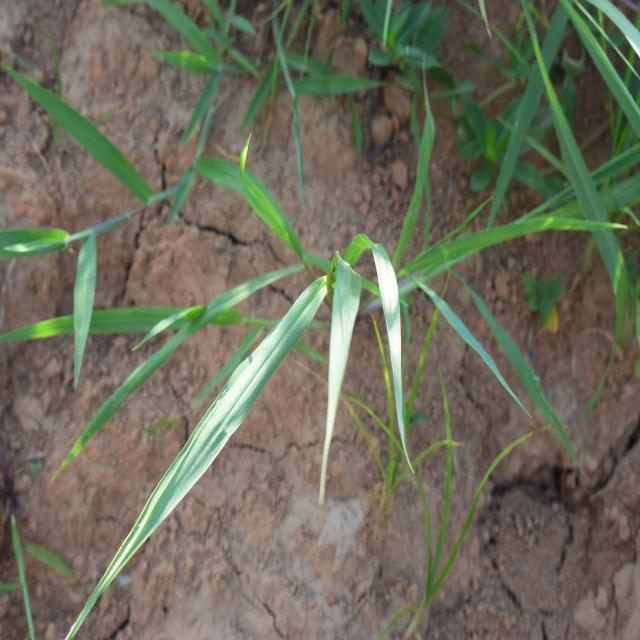green_foxtail: (124, 186, 466, 474)
